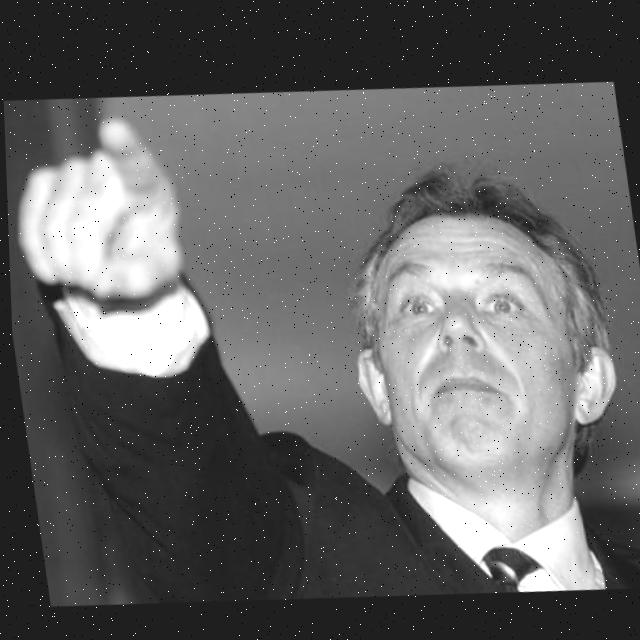face: (343, 205, 633, 478)
